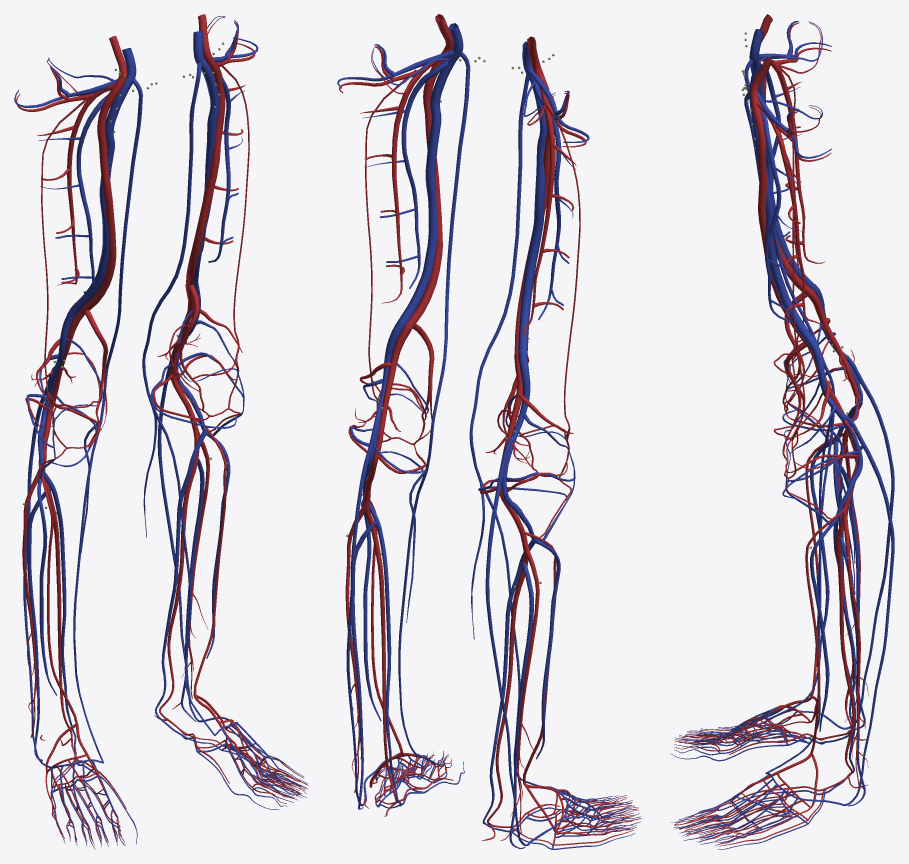
Rendered from vessels-lower-limb.glb.
3 views of the same model, side by side, from view 1: azimuth 30°, elevation 25°; view 2: azimuth 150°, elevation 25°; view 3: azimuth 270°, elevation 25° (orthographic). The views are drawn at different scales.
Parts seen in each view (by area): view 1: vessel-great-saphenous-vein-l, vessel-great-saphenous-vein-r, vessel-femoral-artery-r, vessel-femoral-artery-l, vessel-femoral-vein-r, vessel-femoral-vein-l, vessel-descending-branch-of-lateral-circumflex-femoral-arter (×2), vessel-posterior-tibial-veins-l, vessel-posterior-tibial-artery-l, vessel-small-saphenous-vein-l, vessel-genicular-veins-l, vessel-posterior-tibial-veins-r (+19 smaller); view 2: vessel-great-saphenous-vein-l, vessel-femoral-vein-l, vessel-great-saphenous-vein-r, vessel-femoral-vein-r, vessel-femoral-artery-l, vessel-small-saphenous-vein-r, vessel-small-saphenous-vein-l, vessel-descending-branch-of-lateral-circumflex-femoral-arter (×2), vessel-posterior-tibial-artery-l, vessel-posterior-tibial-veins-l, vessel-posterior-tibial-artery-r, vessel-popliteal-artery-l (+21 smaller); view 3: vessel-femoral-vein-l, vessel-femoral-artery-l, vessel-small-saphenous-vein-l, vessel-great-saphenous-vein-r, vessel-small-saphenous-vein-r, vessel-great-saphenous-vein-l, vessel-posterior-tibial-artery-l, vessel-femoral-vein-r, vessel-fibular-artery-l, vessel-anterior-tibial-veins-l, vessel-deep-femoral-vein-l, vessel-genicular-veins-l (+26 smaller).
Boxes of the visible parts, x1,y1,x2,y2 form: vessel-great-saphenous-vein-l: (142,62,215,735); vessel-great-saphenous-vein-r: (73,78,142,762); vessel-femoral-artery-r: (79,35,127,314); vessel-femoral-artery-l: (185,14,224,287); vessel-femoral-vein-r: (74,48,136,310); vessel-femoral-vein-l: (193,31,219,282); vessel-descending-branch-of-lateral-circumflex-femoral-arter (×2): (41,63,249,377); vessel-posterior-tibial-veins-l: (155,431,205,734); vessel-posterior-tibial-artery-l: (159,429,199,730); vessel-small-saphenous-vein-l: (157,340,214,722); vessel-genicular-veins-l: (150,308,244,435); vessel-posterior-tibial-veins-r: (43,470,76,759); vessel-great-saphenous-vein-l: (398,52,470,759); vessel-femoral-vein-l: (399,23,463,323); vessel-great-saphenous-vein-r: (469,74,539,785); vessel-femoral-vein-r: (518,41,546,350); vessel-femoral-artery-l: (405,14,453,329); vessel-small-saphenous-vein-r: (485,435,547,845); vessel-small-saphenous-vein-l: (346,402,381,806); vessel-descending-branch-of-lateral-circumflex-femoral-arter (×2): (365,69,580,416); vessel-posterior-tibial-artery-l: (364,504,401,802); vessel-posterior-tibial-veins-l: (363,499,401,806); vessel-posterior-tibial-artery-r: (487,541,528,827); vessel-popliteal-artery-l: (363,326,411,504); vessel-femoral-vein-l: (749,63,815,345); vessel-femoral-artery-l: (750,56,809,347); vessel-small-saphenous-vein-l: (825,413,894,805); vessel-great-saphenous-vein-r: (744,59,855,720); vessel-small-saphenous-vein-r: (824,352,894,729); vessel-great-saphenous-vein-l: (744,91,855,772); vessel-posterior-tibial-artery-l: (826,516,855,788); vessel-femoral-vein-r: (749,29,815,289); vessel-fibular-artery-l: (842,516,868,788); vessel-anterior-tibial-veins-l: (810,485,853,731); vessel-deep-femoral-vein-l: (760,110,790,322); vessel-genicular-veins-l: (782,382,862,525).
Size of the model in its own units: 0.2927 by 0.8942 by 0.2401.
